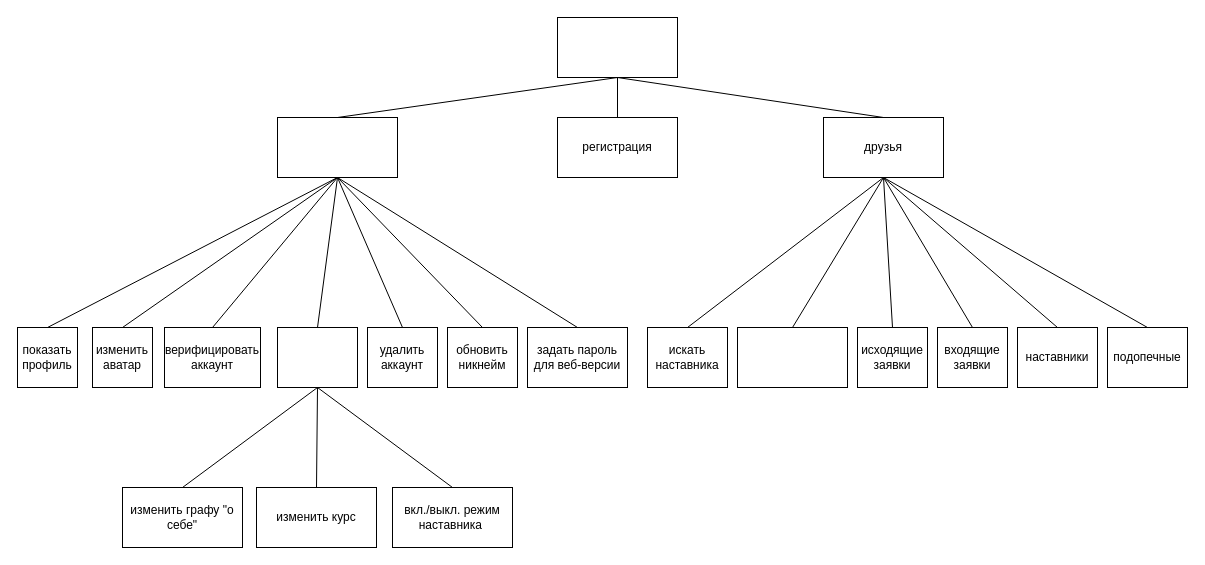
This 1205x565 diagram has some shape labels left out. Each missing label, with the centre of its shape:
главное меню: [617,47]
изменить информацию: [317,357]
искать подтвержденного наставника: [792,357]
профиль: [337,147]
